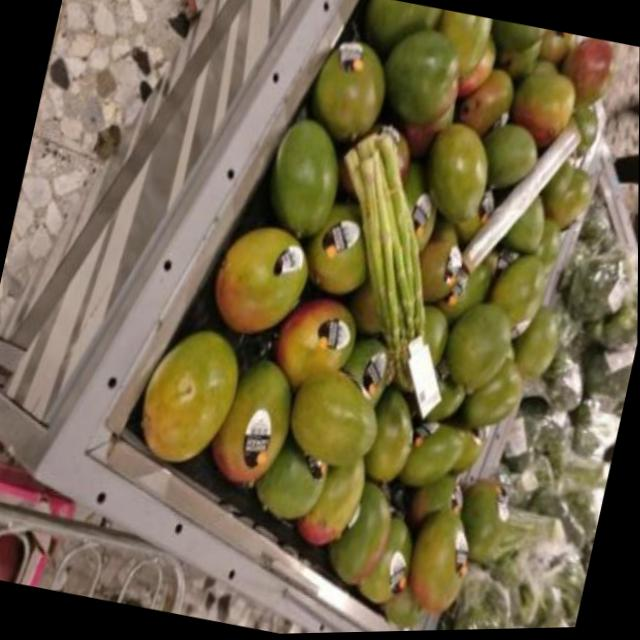Asparagus: (302, 118, 483, 387)
